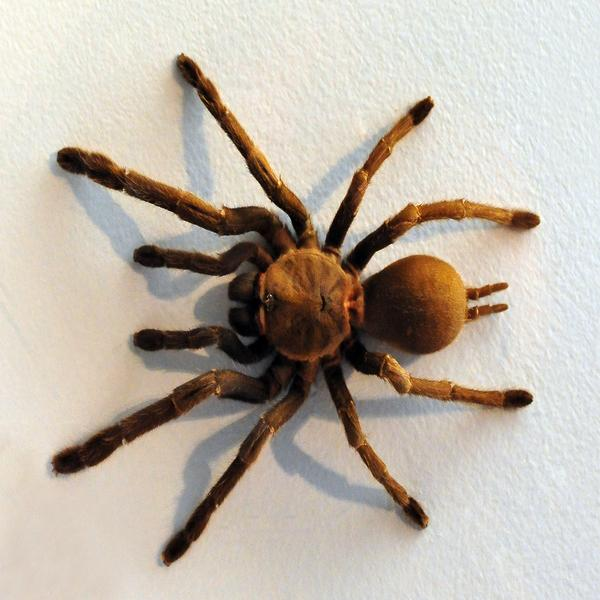Tarantula_Spider: (54, 54, 541, 565)
